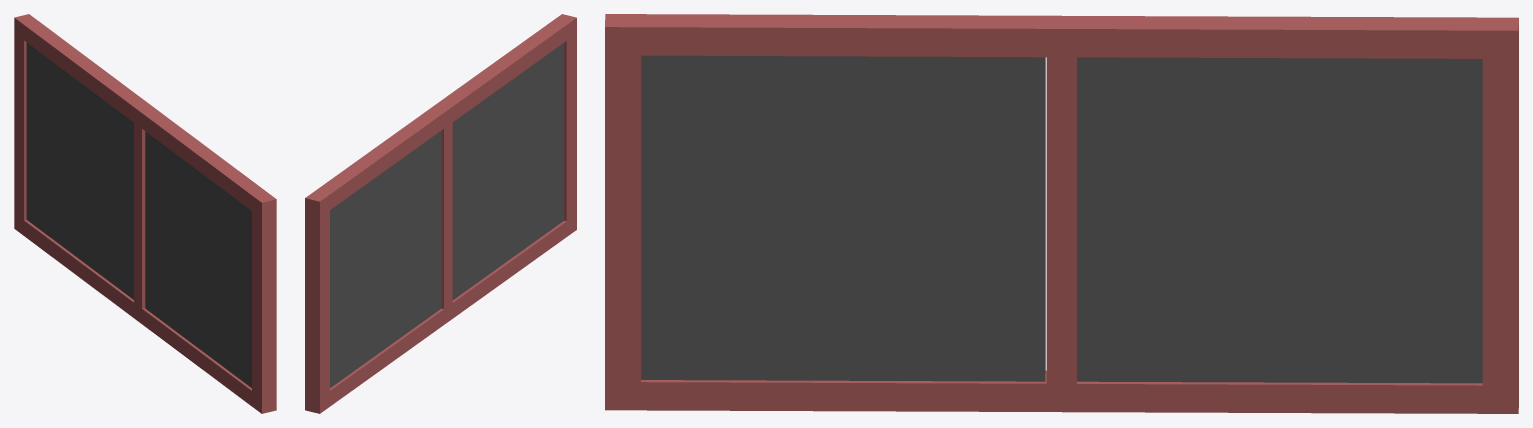
Rendered from Bedroom_Window.fbx.
The picture shows the model from 3 angles, left to right: view 1: azimuth 30°, elevation 25°; view 2: azimuth 150°, elevation 25°; view 3: azimuth 270°, elevation 25°; orthographic projection. The views are drawn at different scales.
Visible parts, largest first — view 1: Bedroom_Window; view 2: Bedroom_Window; view 3: Bedroom_Window.
Boxes of the visible parts, x1,y1,x2,y2 form: Bedroom_Window: (14,14,276,413); Bedroom_Window: (305,14,576,413); Bedroom_Window: (605,14,1518,413).
Size of the model in its own units: 15.31 by 163 by 353.
